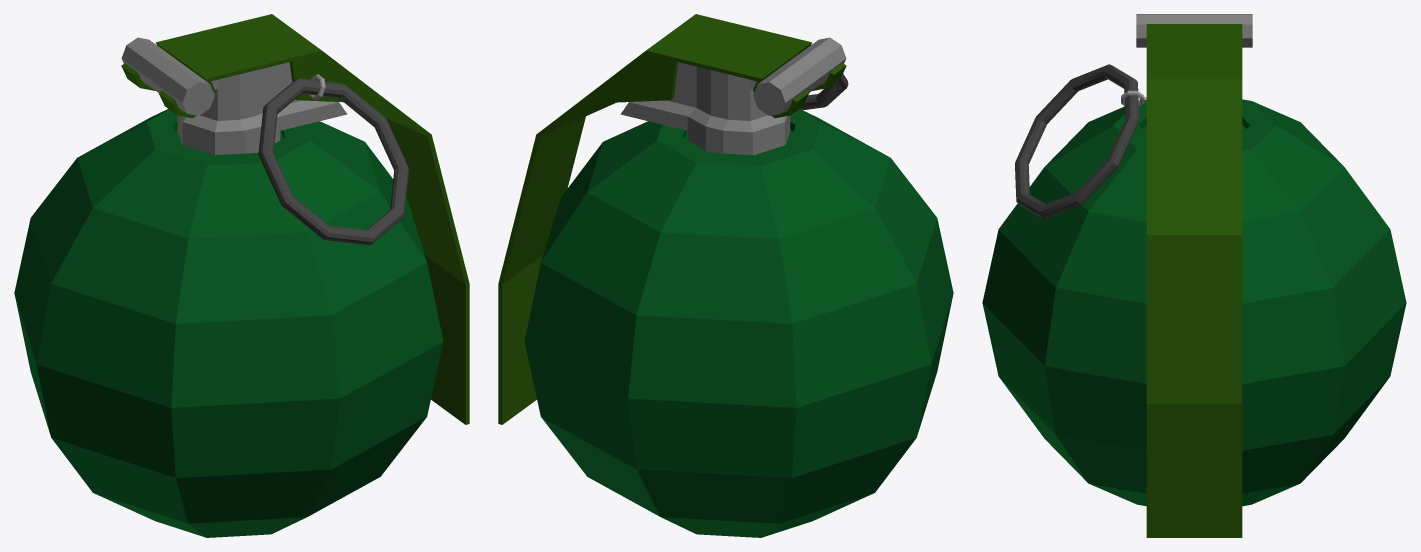
Rendered from Grenade.fbx.
3 renders of one model, left to right at view 1: azimuth 30°, elevation 25°; view 2: azimuth 150°, elevation 25°; view 3: azimuth 270°, elevation 25°, orthographic. The views are drawn at different scales.
Parts seen in each view (by area): view 1: Grenade - Main.001; view 2: Grenade - Main.001; view 3: Grenade - Main.001.
Boxes of the visible parts, left/top/right/bottom form: Grenade - Main.001: left=14, top=14, right=469, bottom=537; Grenade - Main.001: left=498, top=14, right=953, bottom=537; Grenade - Main.001: left=982, top=14, right=1406, bottom=537.
Bounding box in the file's own units: 100 × 111 × 94.63.
